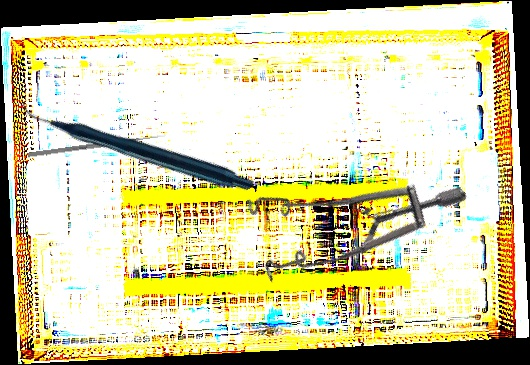Handpiece: (19, 19, 256, 270)
Pusher: (27, 133, 167, 158)
Speculum: (220, 89, 470, 331)
